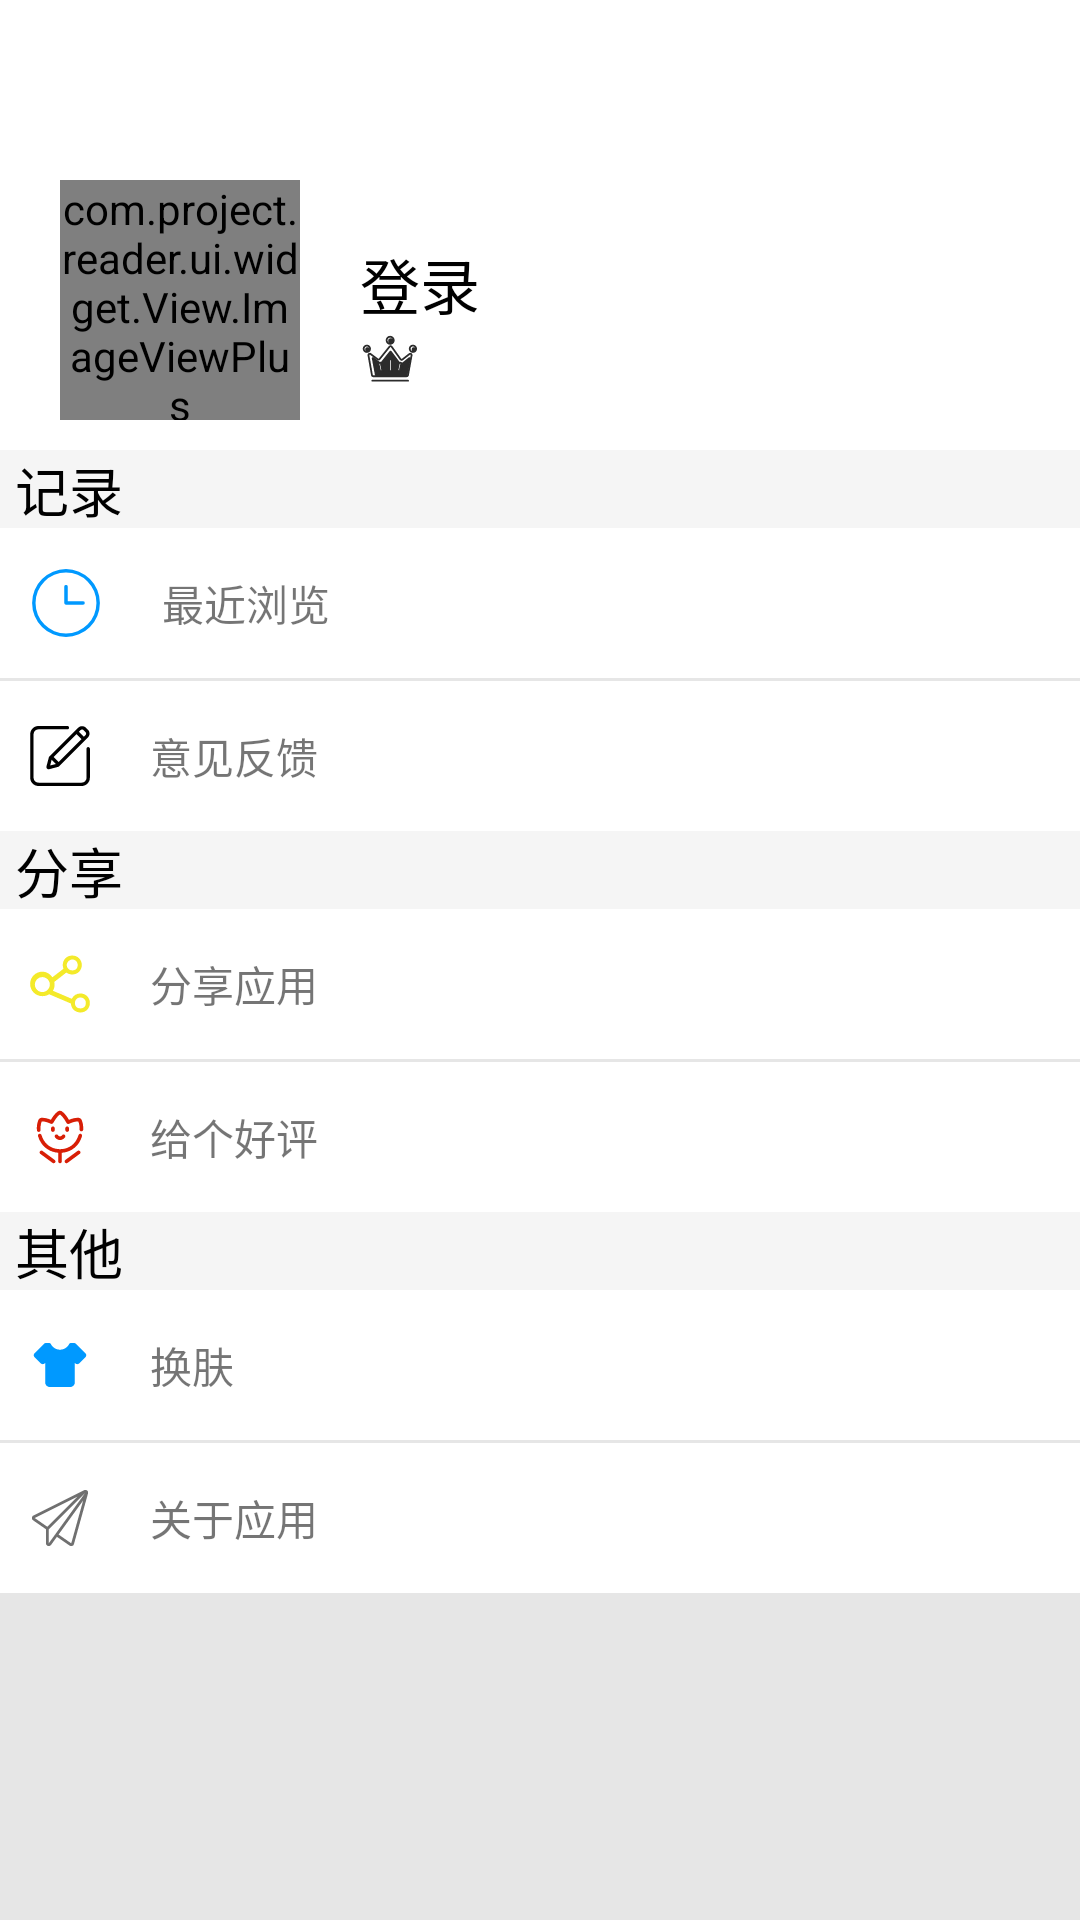

Icon bounding boxes for this 1080×1920 phone screenshot, format region(x1, y1, x2, y2):
changestyle: region(33, 1343, 87, 1387)
feedback: region(30, 726, 90, 786)
recenbrowse: region(32, 569, 100, 637)
share: region(30, 955, 90, 1013)
